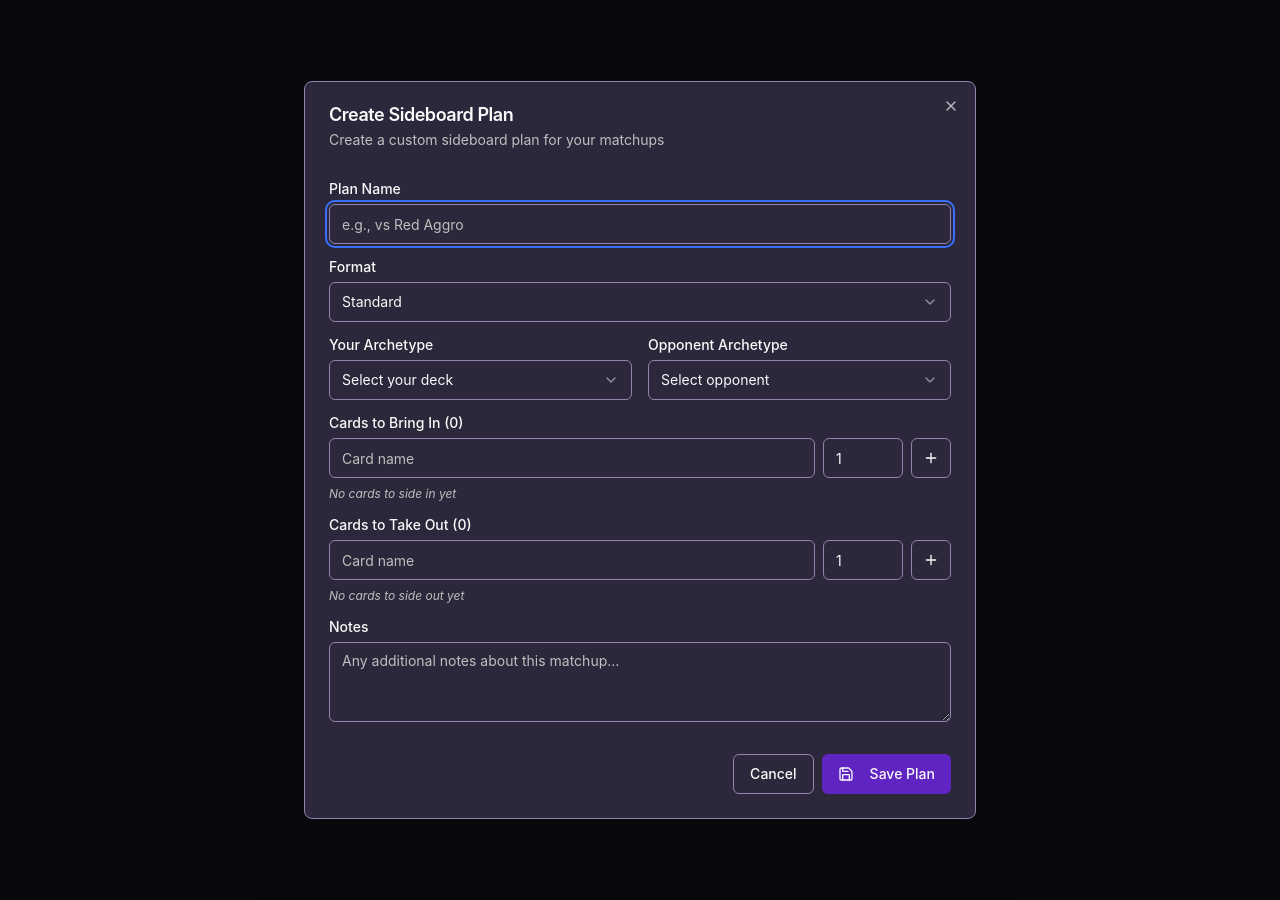
Test: SideboardPlanEditor — list semantics (#1447, WCAG 1.3.1) › promotes the side-out list to <ul role='list'> as soon as a card is added
Type "Embercleave" into the field with placeholder "Card name" below "Cards to Take Out (" at [572, 560], box [329,540,815,580]
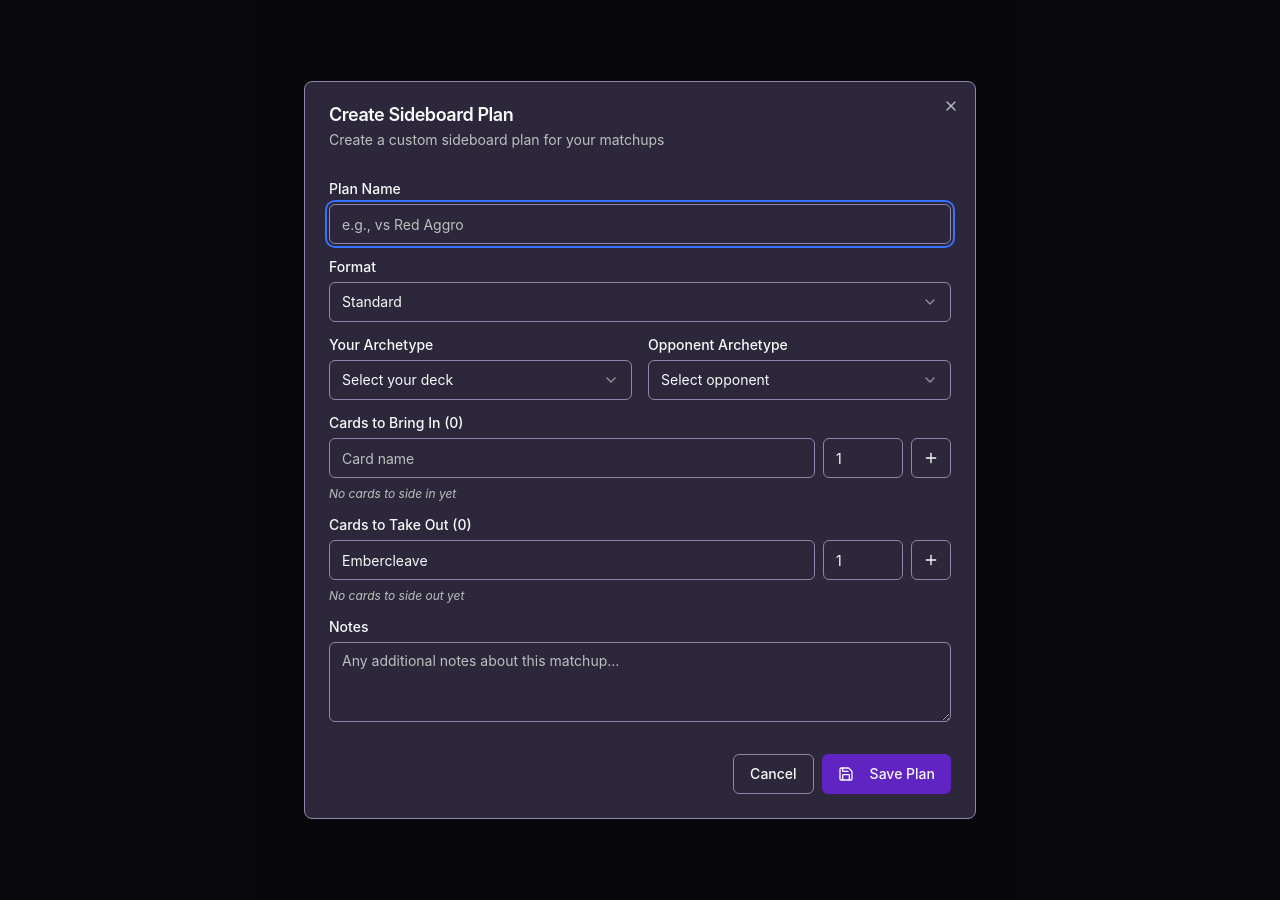
Click the button named "add card to side out" at [931, 560], box [911,540,951,580]
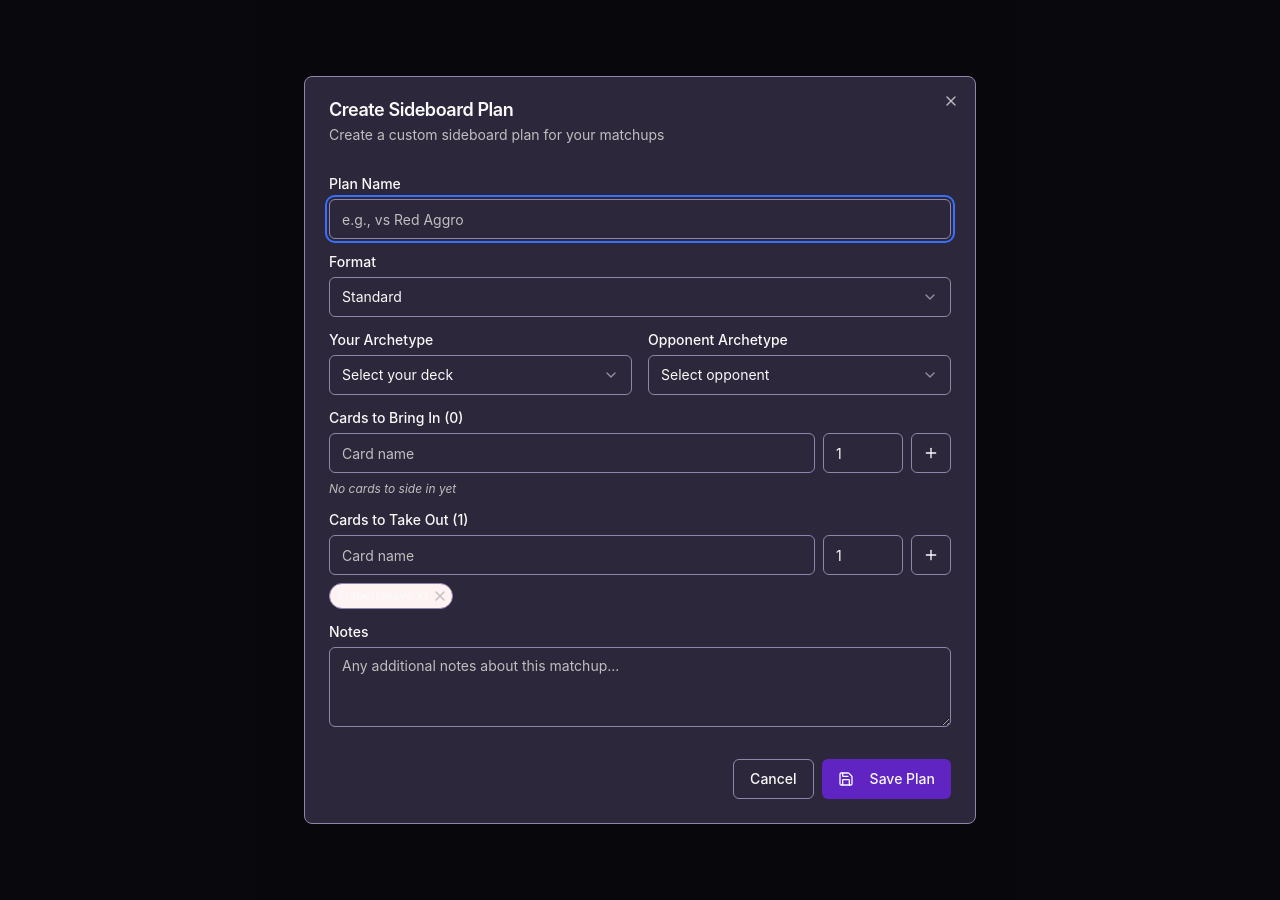
Result: the number of list items is 1 at [329,583,453,609]
